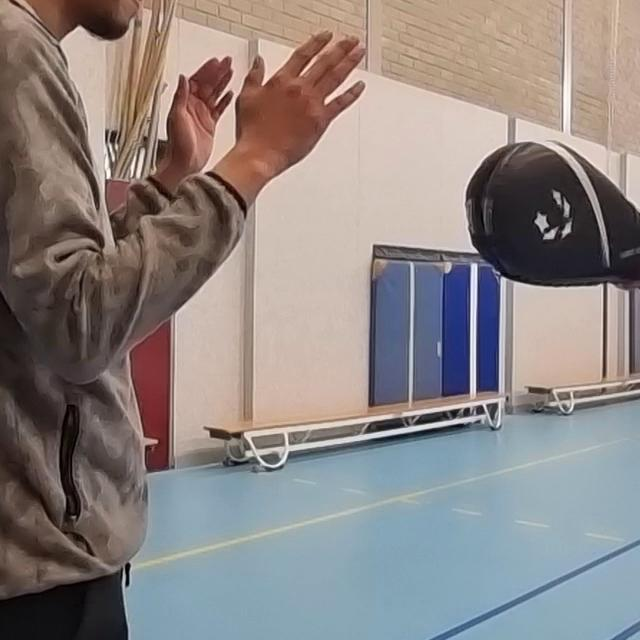paddle: (460, 139, 640, 292)
